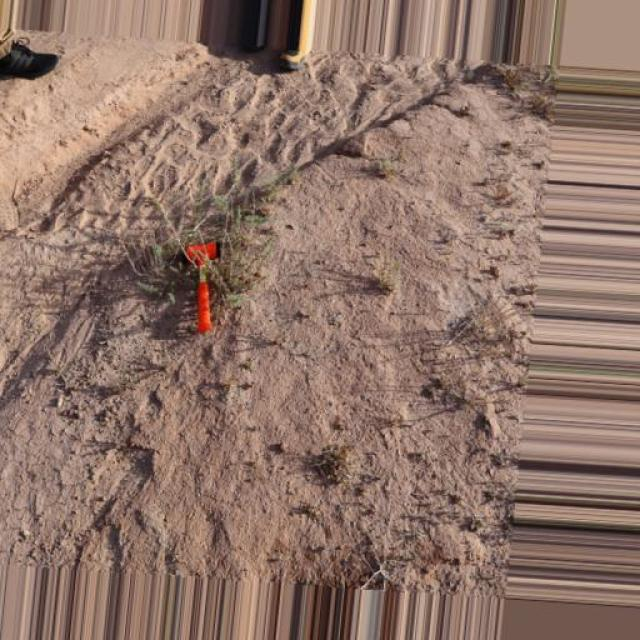mallet: (182, 238, 220, 332)
